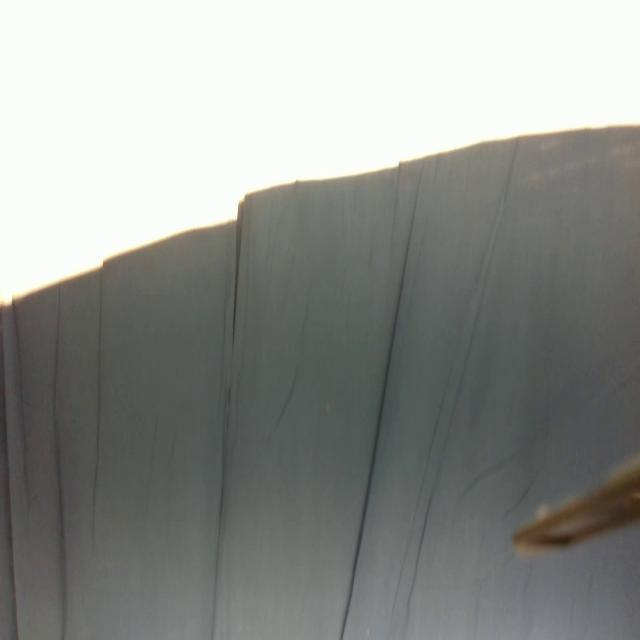crease: (394, 136, 520, 630), (339, 160, 426, 640), (208, 201, 248, 640), (49, 281, 71, 640), (0, 313, 19, 634), (86, 268, 107, 544), (15, 299, 33, 516)
